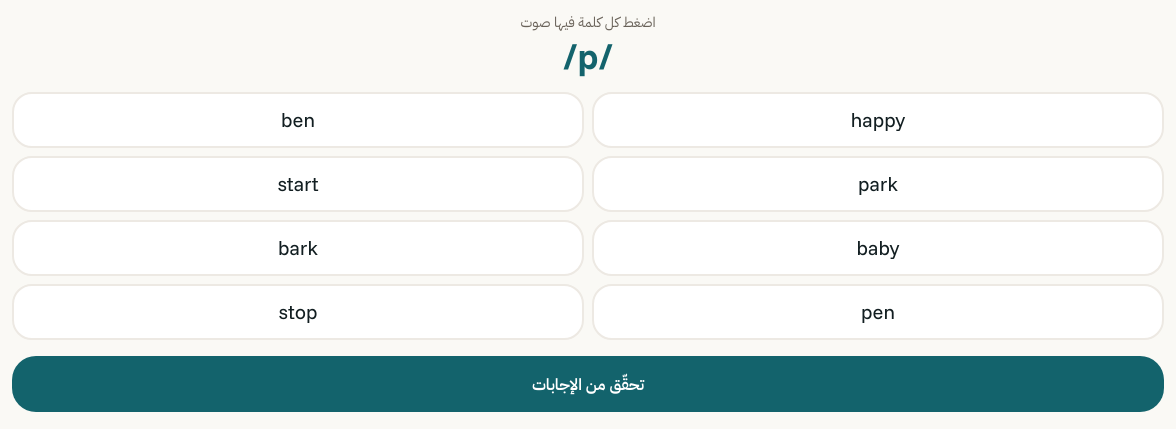
Test: SpotTheSoundGame › starts over on a new sound
Later steps or results of the test are not shown.
Click the button "تحقّق من الإجابات" at (588, 384), box [12,356,1164,412]
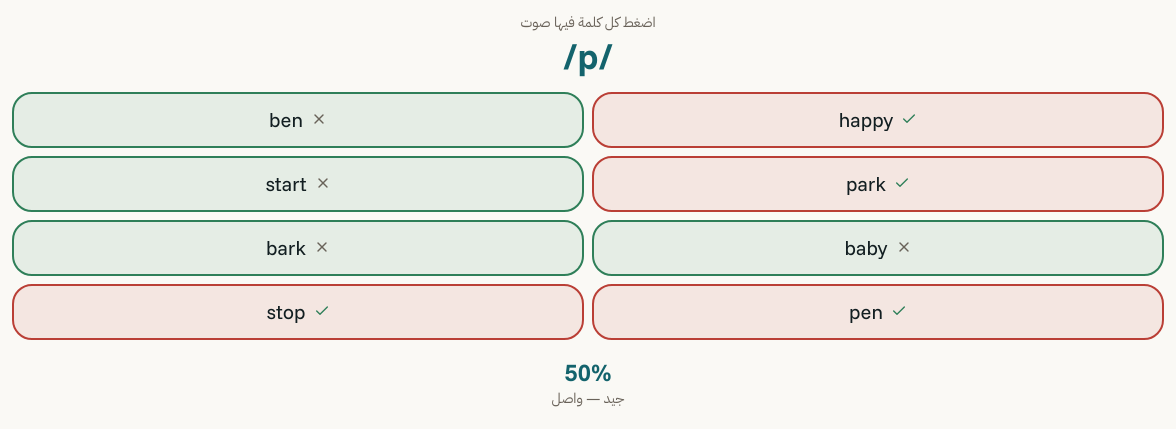
expect the text "%" is shown: met, box [591,357,612,387]
